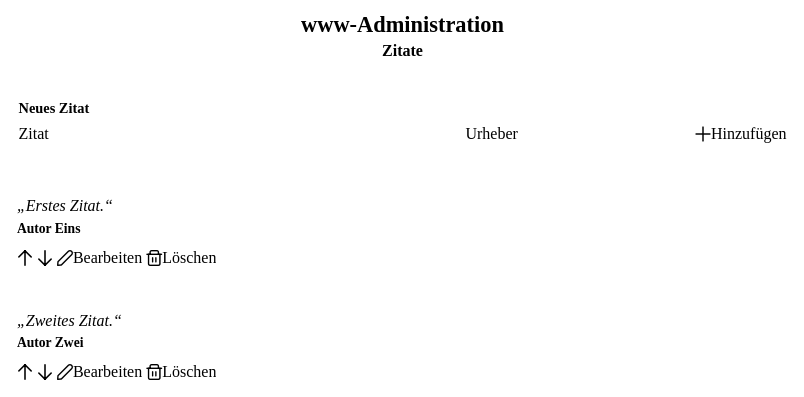
Test: QuotesAdminView › refreshed list, failures, limits and row names › shows the list as the API returns it after adding a quote
This screenshot has width=804, height=397.
Type "Ein neues Zitat" into the field named "Neues Zitat" at (236, 134), box [18,125,454,143]
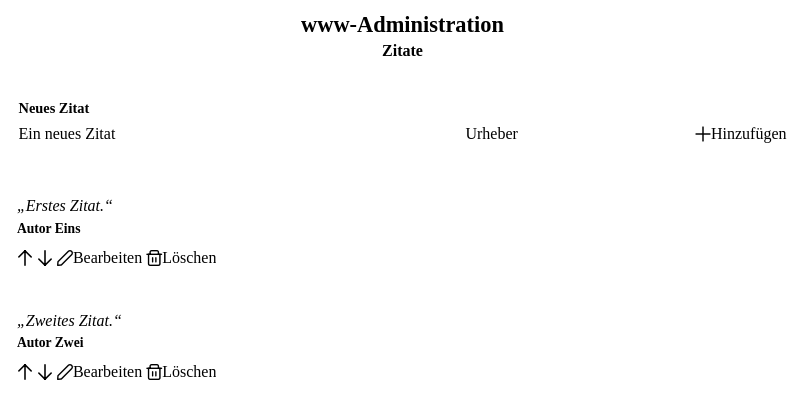
Type "Jemand" into the field named "Urheber des neuen Zitats" at (574, 134), box [466,125,683,143]
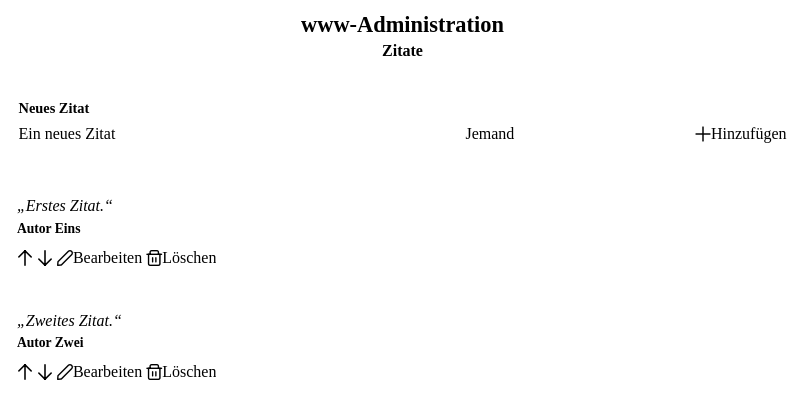
Click the button "Hinzufügen" at (741, 134), box [695,125,786,143]
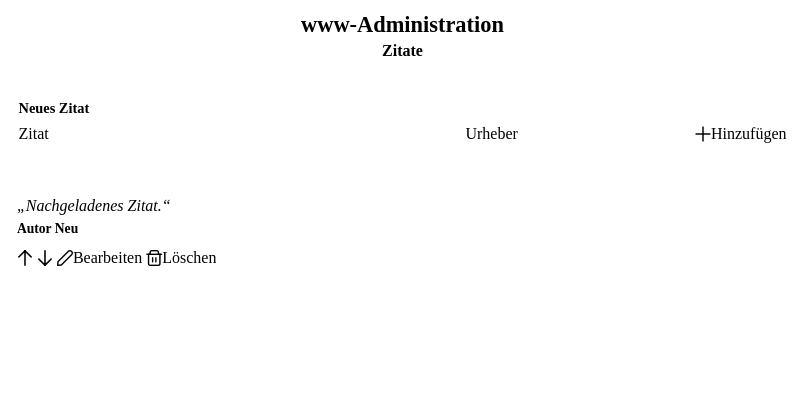
Expected: the text "Nachgeladenes Zitat." is shown, [17,197,171,214]
Expected: the text "Erstes Zitat." is gone
